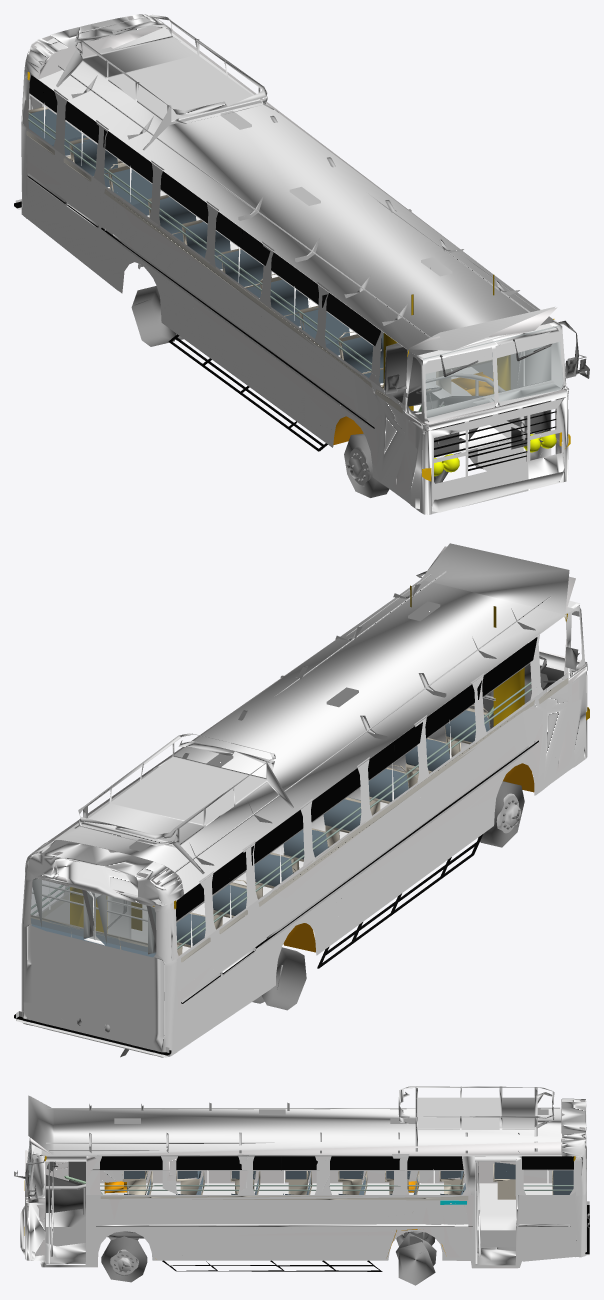
The model's file is bus_viking.glb.
The picture shows the model from 3 angles, top to bottom: view 1: azimuth 30°, elevation 25°; view 2: azimuth 150°, elevation 25°; view 3: azimuth 270°, elevation 25°; orthographic projection. The views are drawn at different scales.
Visible parts, largest first — view 1: Object_6, Object_25, Object_17, Object_8, Object_43, Object_78, Object_45, Object_57, Object_44, Object_4, Object_60, Object_3 (+8 smaller); view 2: Object_6, Object_17, Object_8, Object_25, Object_43, Object_78, Object_45, Object_57, Object_42, Object_60, Object_77, Object_44 (+4 smaller); view 3: Object_6, Object_25, Object_8, Object_17, Object_42, Object_43, Object_20, Object_44, Object_45, Object_11, Object_57, Object_3 (+4 smaller).
Boxes of the visible parts, x1,y1,x2,y2 form: Object_6: (21,14,568,514); Object_25: (22,15,566,498); Object_17: (56,14,278,150); Object_8: (14,75,556,470); Object_43: (28,109,383,383); Object_78: (423,325,563,417); Object_45: (58,65,537,337); Object_57: (26,131,402,413); Object_44: (28,112,379,376); Object_4: (384,343,439,409); Object_60: (104,149,381,427); Object_3: (415,396,550,455); Object_6: (21,543,587,1057); Object_17: (74,733,293,873); Object_8: (14,637,538,1055); Object_25: (23,546,586,1030); Object_43: (31,710,491,957); Object_78: (25,874,155,954); Object_45: (174,571,551,872); Object_57: (38,678,568,962); Object_42: (30,705,490,955); Object_60: (32,662,535,946); Object_77: (70,585,524,932); Object_44: (31,682,531,949); Object_6: (25,1095,586,1268); Object_25: (25,1096,586,1268); Object_8: (93,1156,589,1271); Object_17: (398,1086,554,1151); Object_42: (122,1163,553,1199); Object_43: (124,1162,573,1194); Object_20: (396,1232,436,1285); Object_44: (100,1185,573,1190); Object_45: (46,1102,560,1153); Object_11: (101,1231,147,1282); Object_57: (100,1196,468,1200); Object_3: (45,1162,85,1231).
Size of the model in its own units: 3.15 by 3.86 by 12.55.
